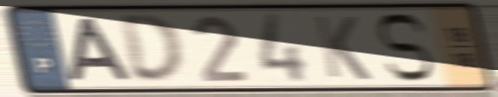2: (190, 13, 251, 84)
4: (255, 11, 313, 86)
A: (65, 16, 136, 83)
D: (116, 12, 187, 87)
K: (310, 13, 374, 83)
S: (373, 11, 437, 85)
